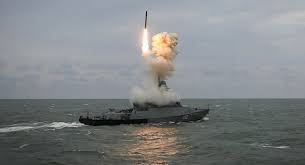tau_muctieu: (83, 84, 212, 127)
ten_lua: (143, 10, 151, 29)
